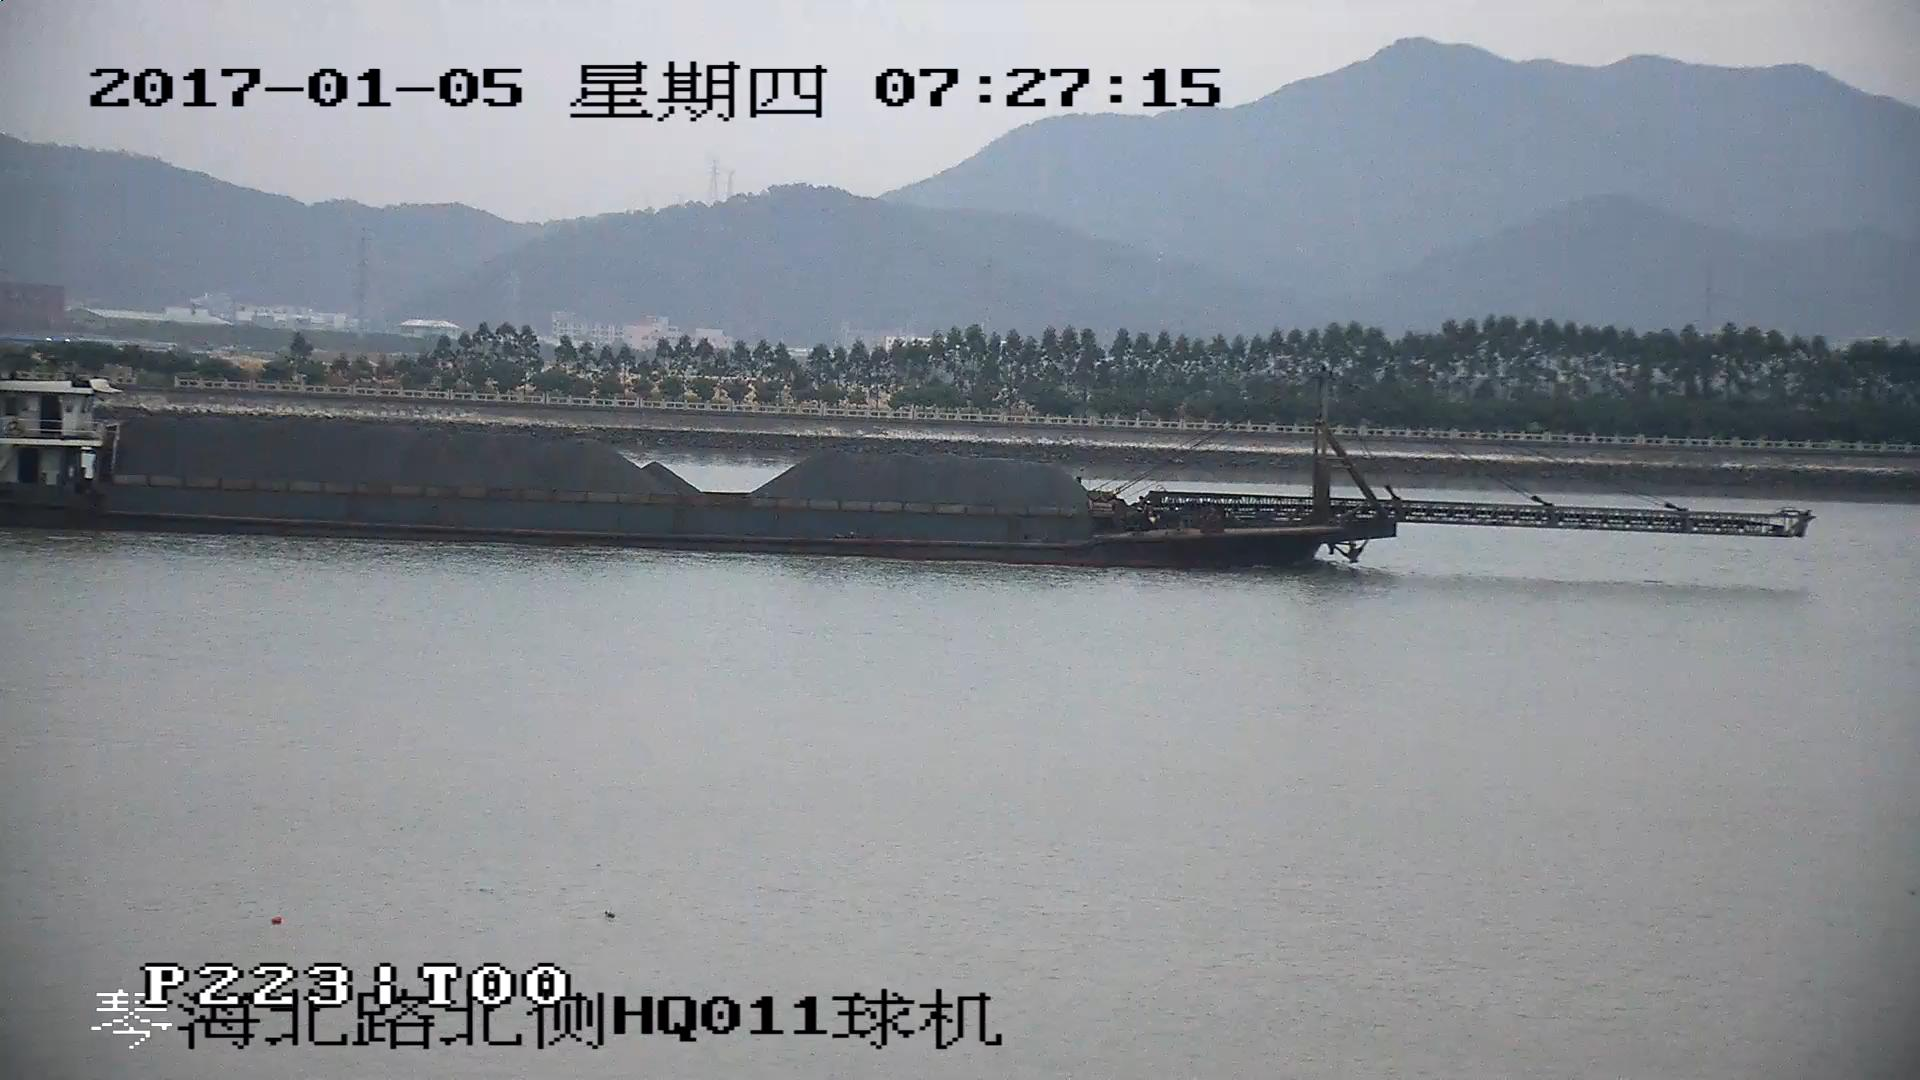ore carrier: (1, 381, 1806, 568)
